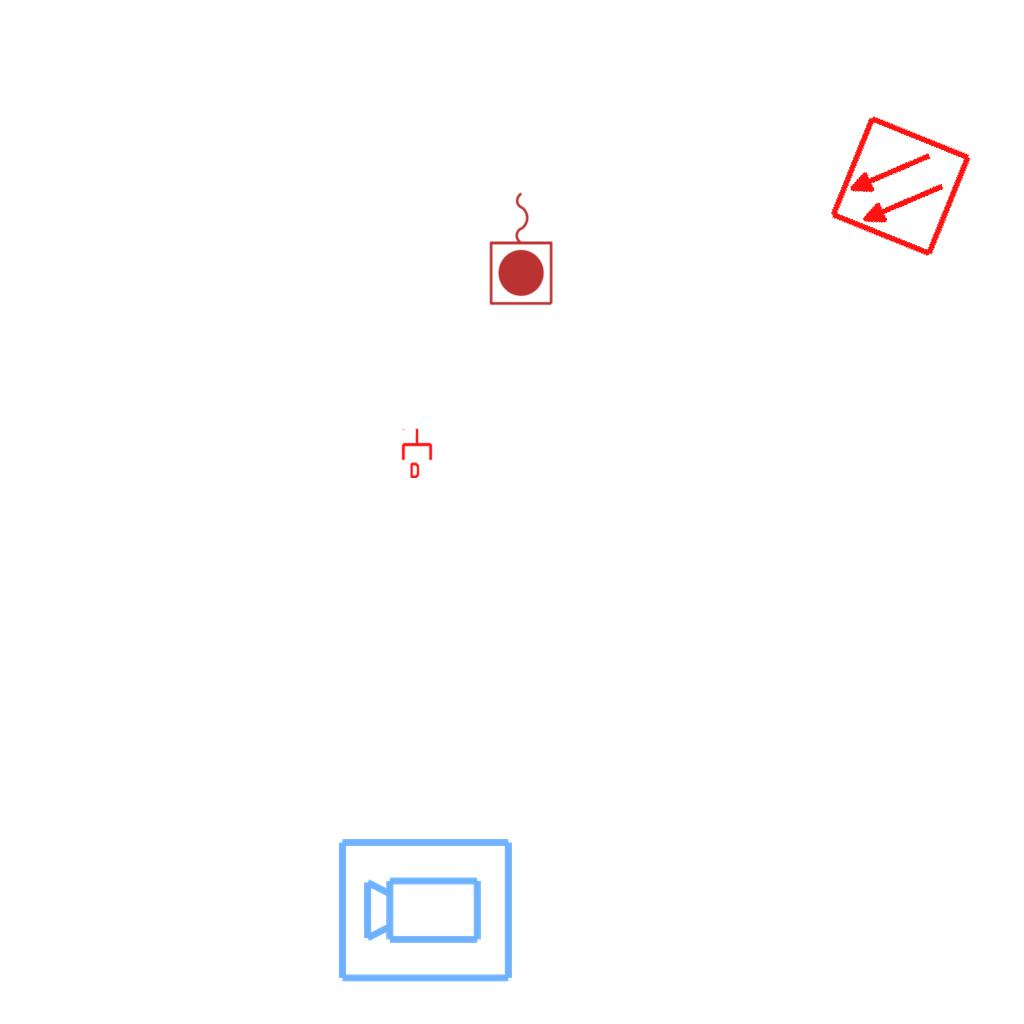Datenanschluss_einfach: (400, 428, 434, 478)
KFO_Kamera_mit_Festobjektiv: (335, 832, 517, 986)
RMO_Rauchmelder_optischer: (826, 112, 975, 261)
Zugtaster: (486, 187, 558, 309)
